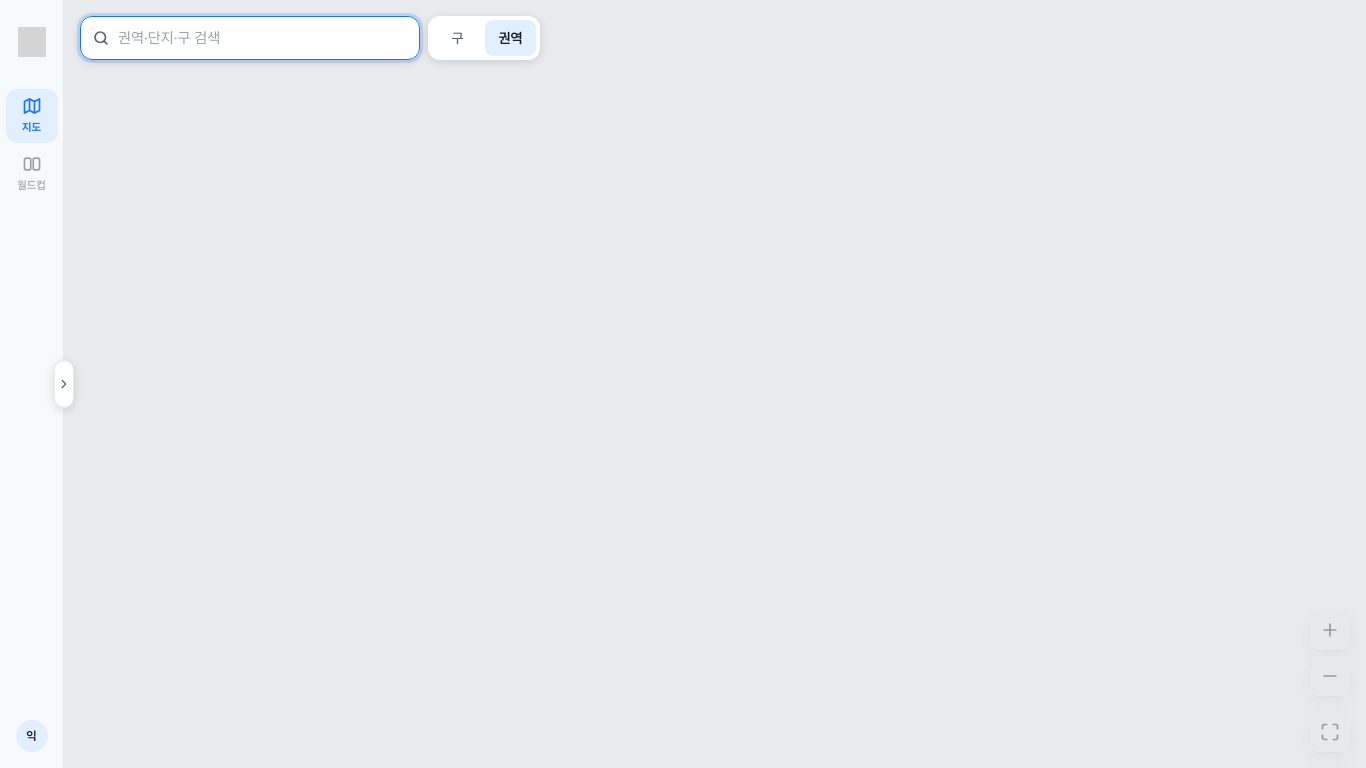
keeps a returned query pending after intermediate input 청 until its new request completes
The image size is (1366, 768).
Step 1. Type "압" into the dropdown → point(263, 38), box [118,16,408,60]
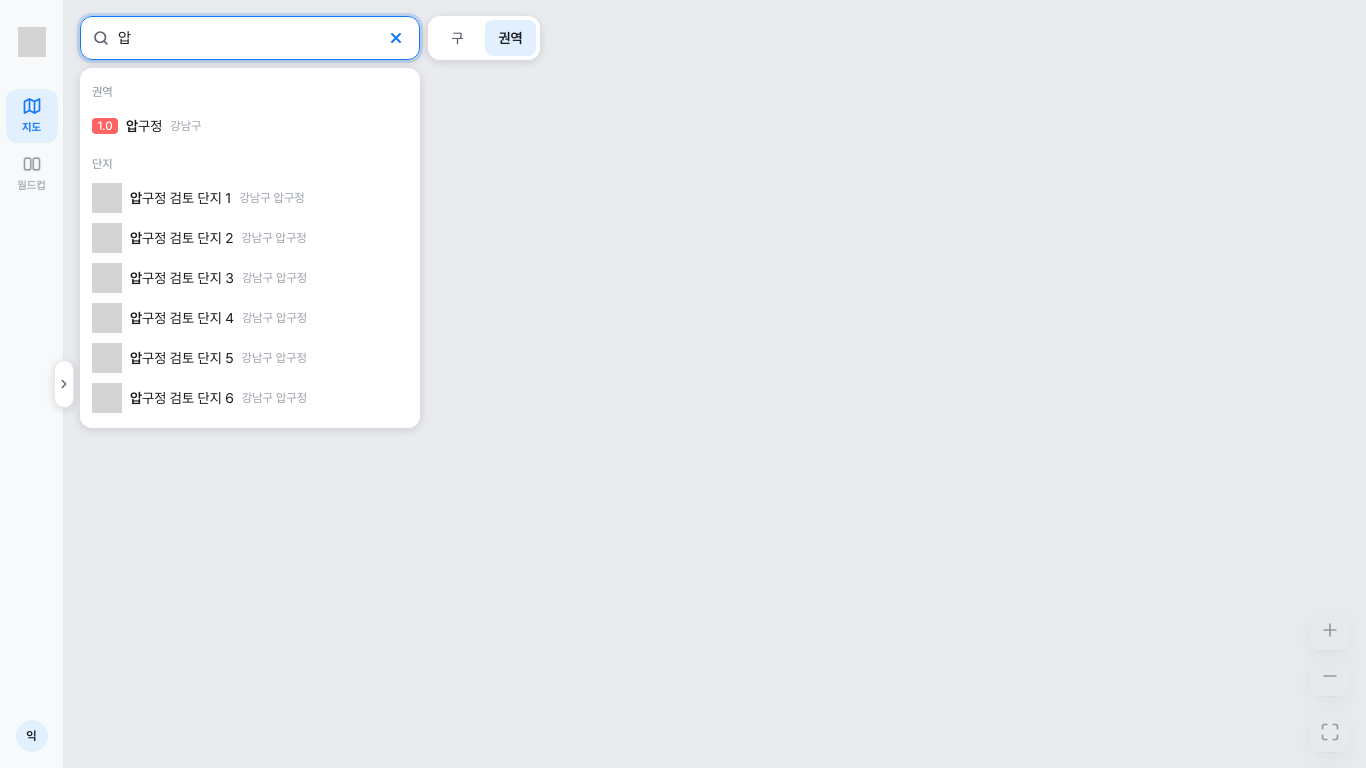
Expected: the option "1.0 압구정 강남구" is shown, [92,118,201,134]
Step 2. Replace the text in the dropdown with "청" → point(247, 38), box [118,16,376,60]
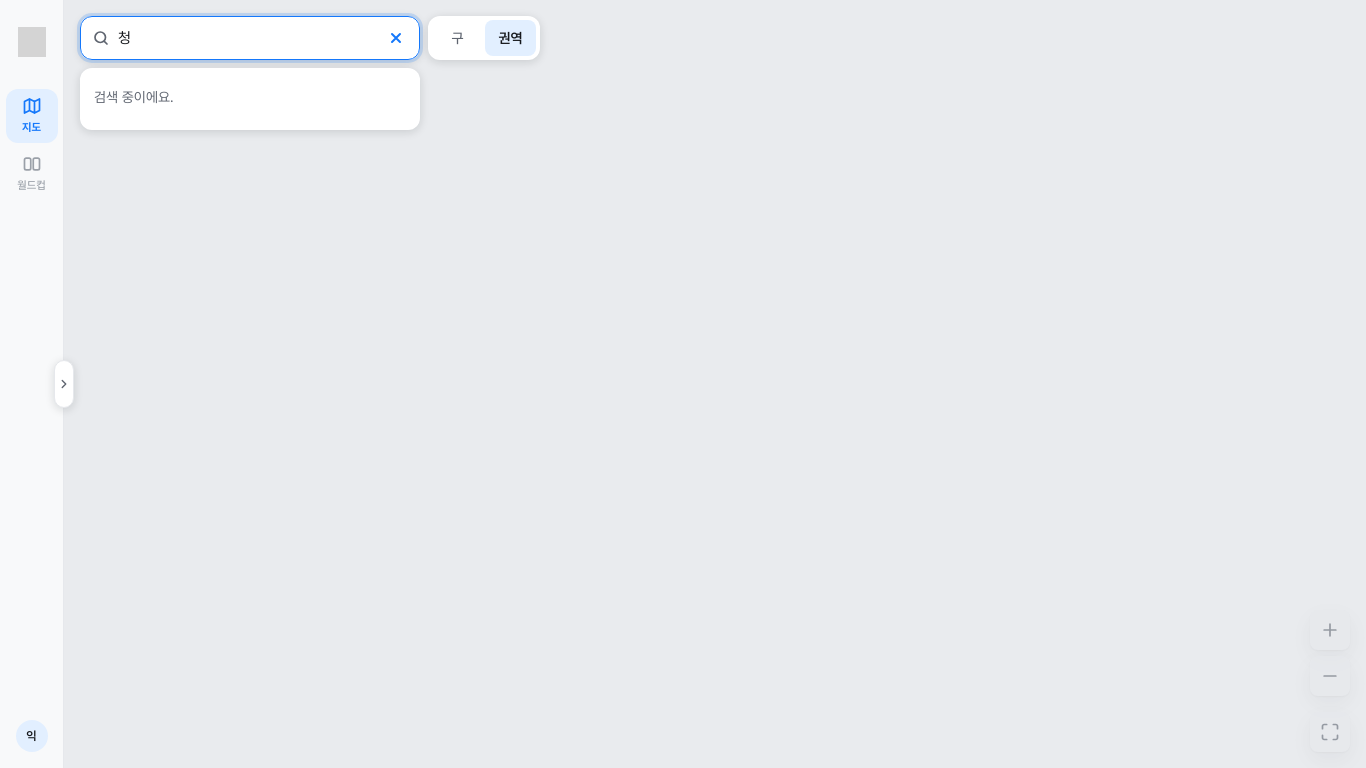
Step 3. Replace the text in the dropdown with "압" → point(247, 38), box [118,16,376,60]
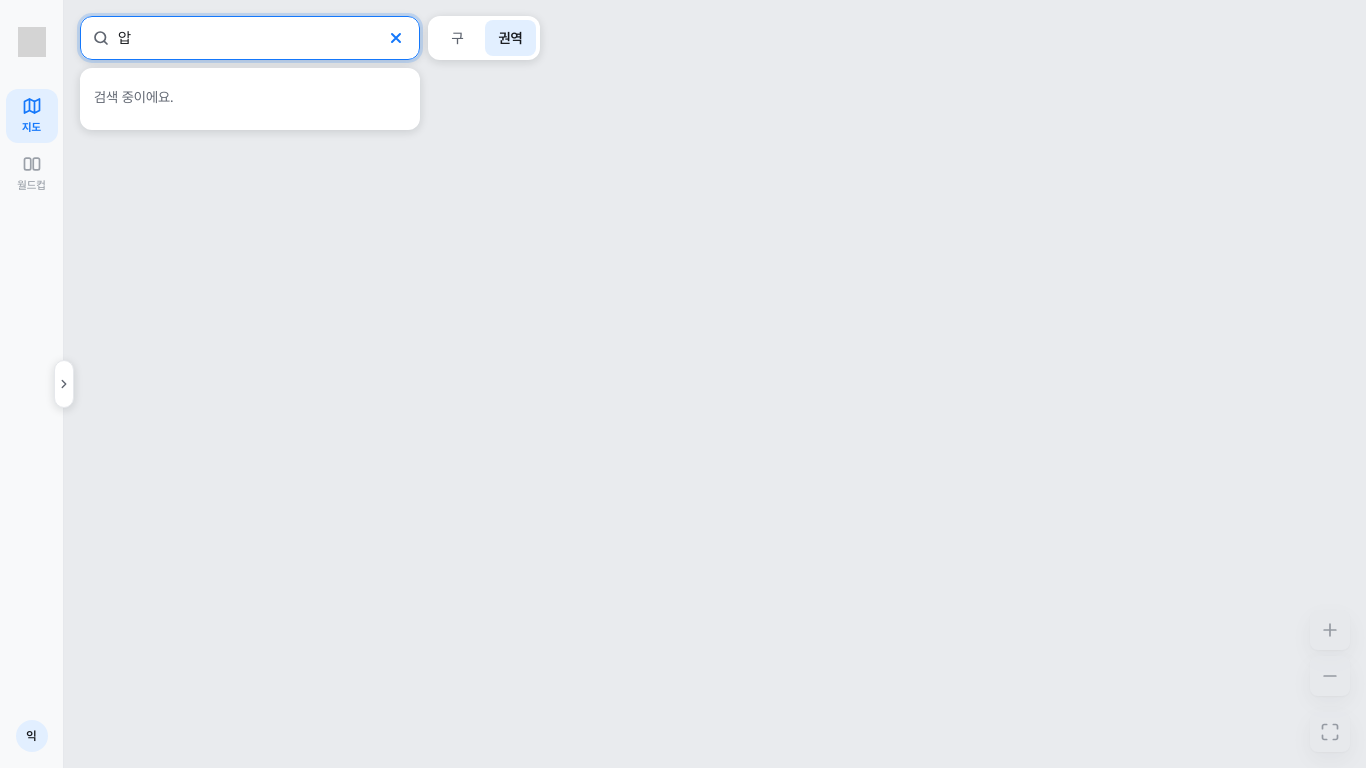
Expected: the message reads "검색 중이에요.", [94,89,174,105]
Step 4. Press Enter in the dropdown, box [118,16,376,60]
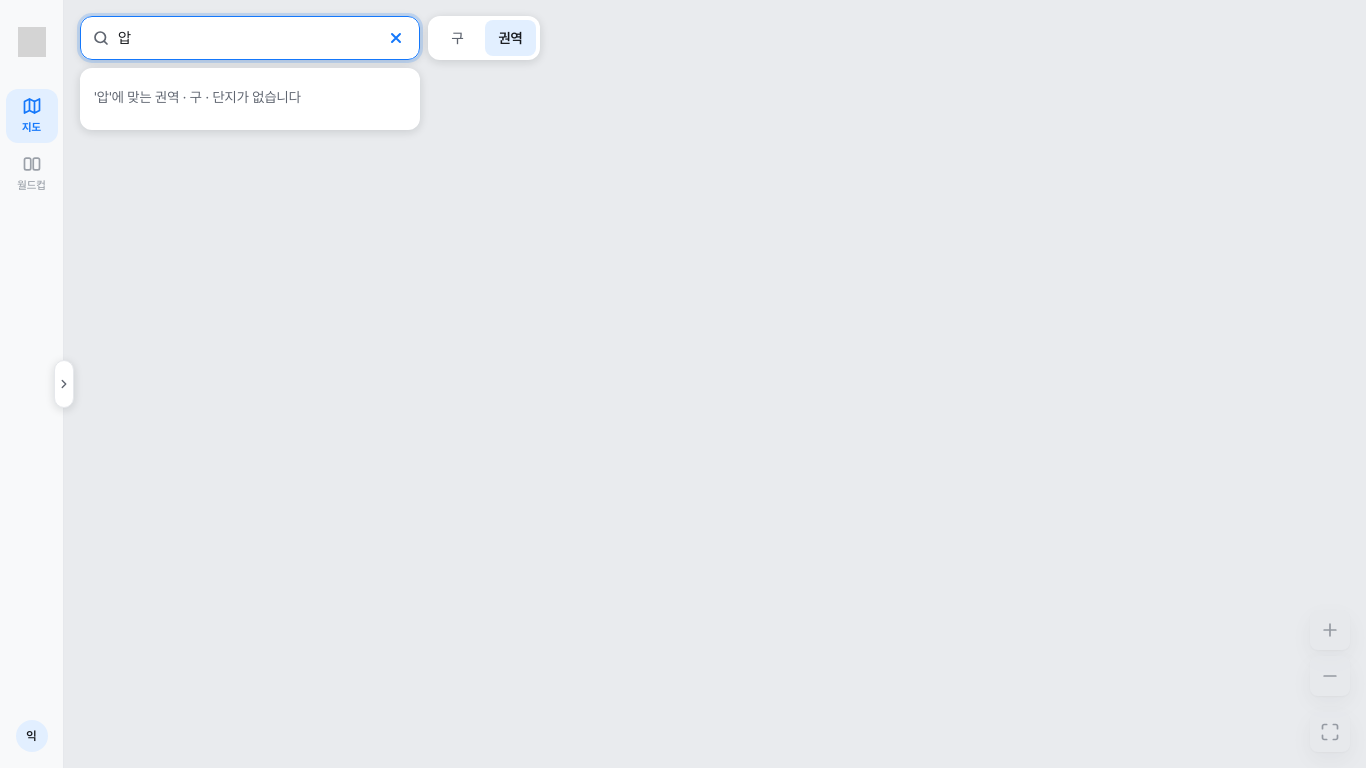
Expected: the message reads "'압'에 맞는 권역 · 구 · 단지가 없습니다", [94,89,301,105]
